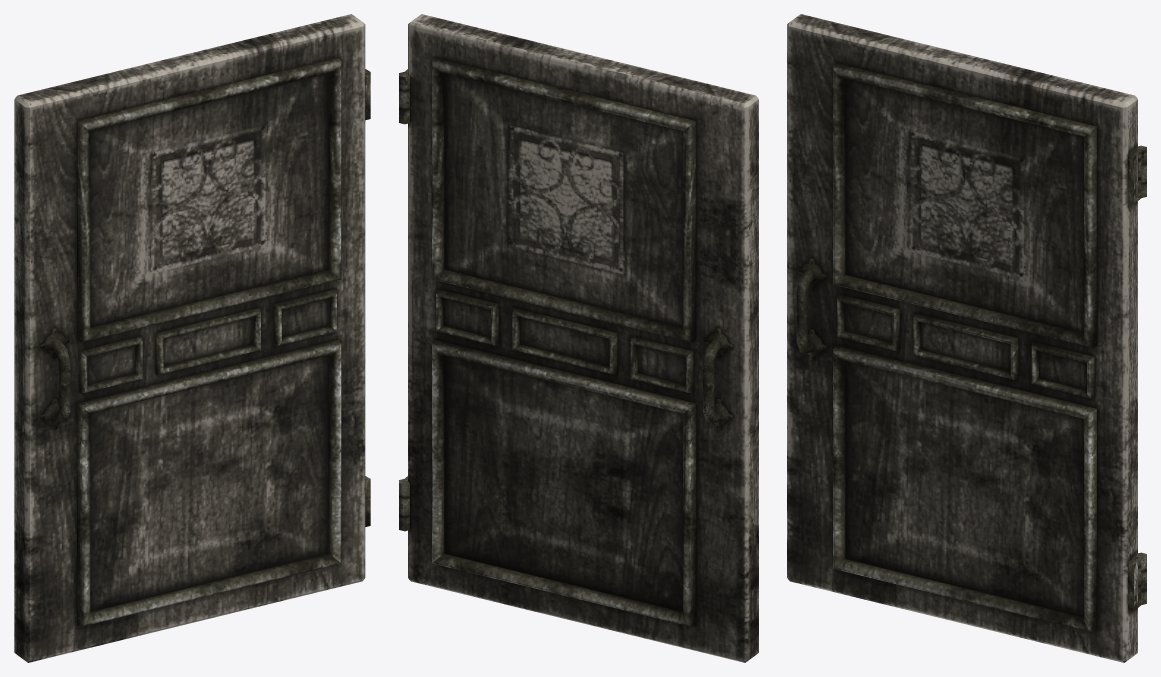
Rendered from mansion_white.dae.
3 views of the same model, side by side, from view 1: azimuth 30°, elevation 25°; view 2: azimuth 150°, elevation 25°; view 3: azimuth 330°, elevation 25° (orthographic).
Visible parts, largest first — view 1: mansion_door_mesh, mansion_door_hinges; view 2: mansion_door_mesh, mansion_door_hinges; view 3: mansion_door_mesh, mansion_door_hinges.
Boxes of the visible parts, x1=… form: mansion_door_mesh: x1=14, y1=14, x2=365, y2=662; mansion_door_hinges: x1=365, y1=69, x2=370, y2=526; mansion_door_mesh: x1=408, y1=14, x2=758, y2=662; mansion_door_hinges: x1=399, y1=69, x2=409, y2=531; mansion_door_mesh: x1=787, y1=14, x2=1137, y2=662; mansion_door_hinges: x1=1128, y1=145, x2=1146, y2=611.
Size of the model in its own units: 1.79 by 0.3624 by 2.75.
1 material, 1 textured.
